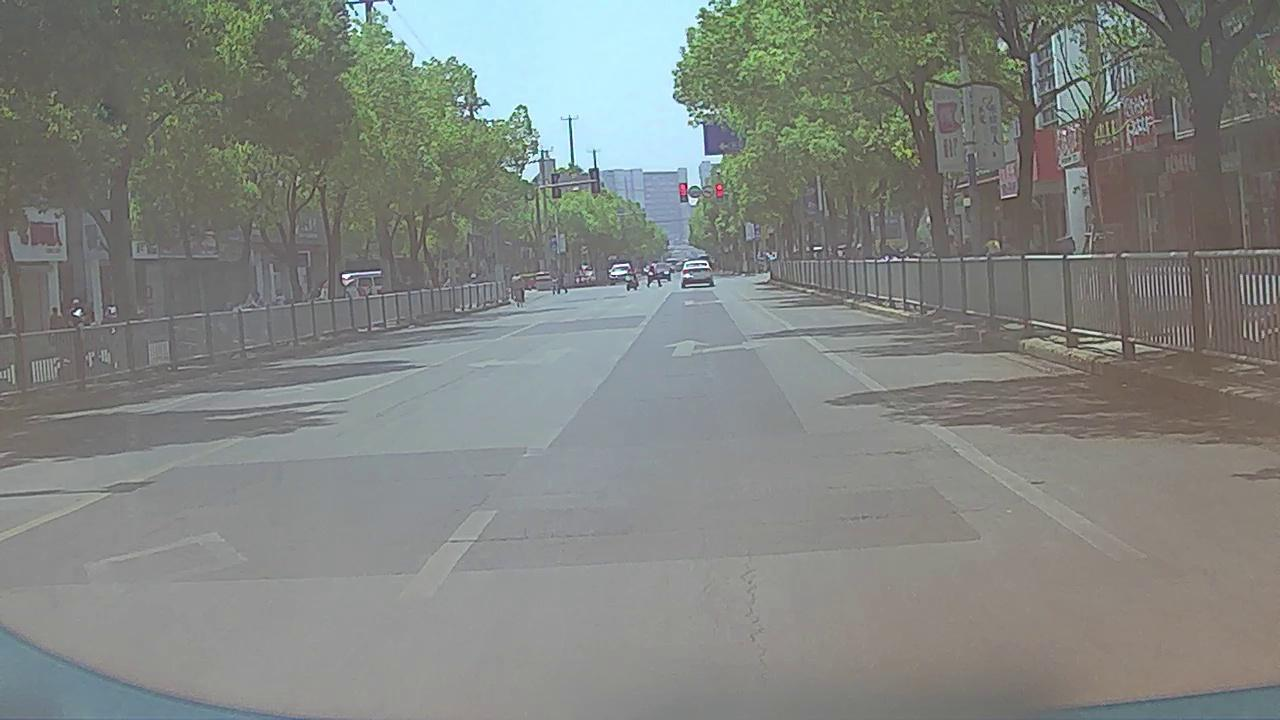traffic_light: (678, 183, 687, 203), (715, 183, 723, 203)
